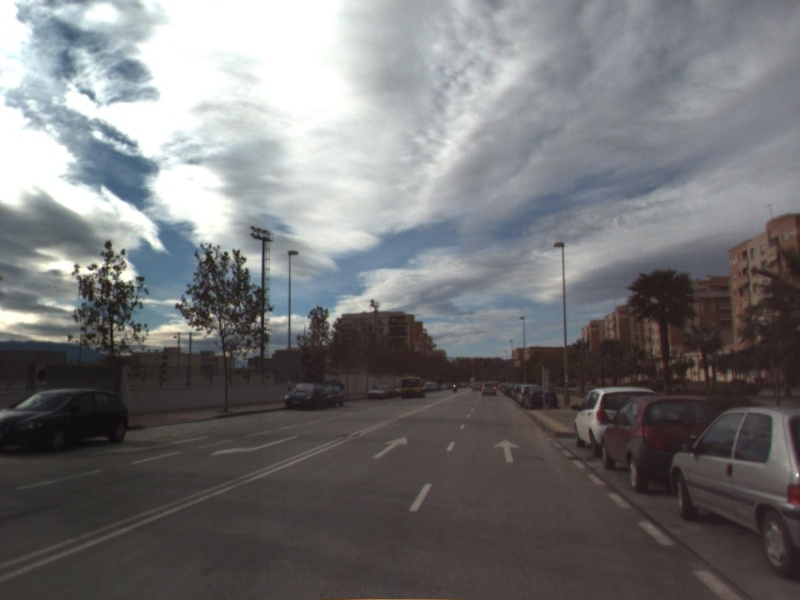STRAIGHT: (370, 435, 411, 460), (491, 437, 523, 465)
